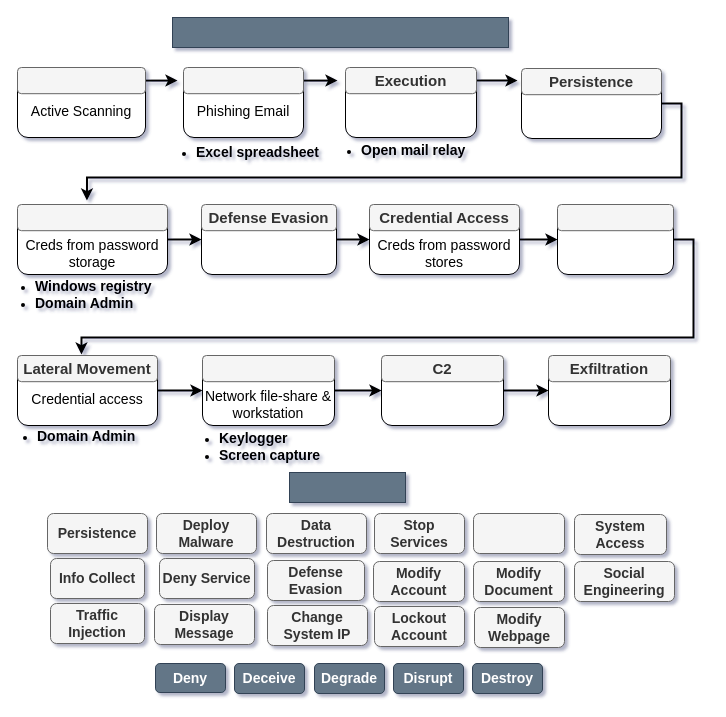
The diagram is 726 pixels wide and 717 high, and some of its shapes have lost their labels. The box of each missing label's shape, as (x1, y1, x2, y2) in pixels:
Automated exfil: (548, 354, 670, 426)
Collection: (202, 354, 334, 382)
Command & scripting interpreter: (344, 66, 476, 138)
Data Exfil: (472, 512, 564, 554)
Discovery: (556, 204, 674, 231)
Effects Menu: (288, 472, 406, 502)
Encrypted tunnel: (380, 354, 504, 426)
Initial Access: (182, 66, 304, 94)
MITRE Framework Methodology: (172, 16, 508, 48)
Privilege Escalation: (16, 204, 168, 231)
Reconnaissance: (16, 66, 146, 94)
Startup Script: (520, 68, 662, 138)
System info discovery: (556, 204, 674, 274)
Valid account: (200, 204, 336, 274)
